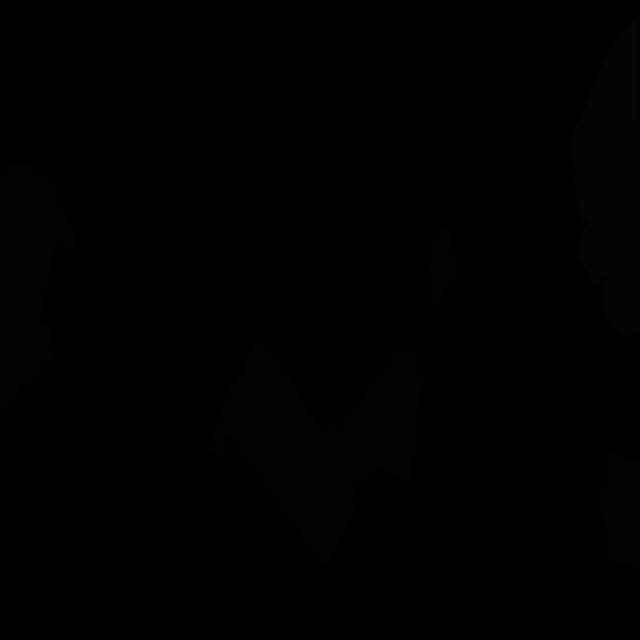cardboard: (207, 339, 359, 571), (0, 161, 76, 416), (336, 348, 424, 486), (599, 447, 640, 569), (429, 226, 459, 310)
soft_plastic: (569, 14, 640, 335)
